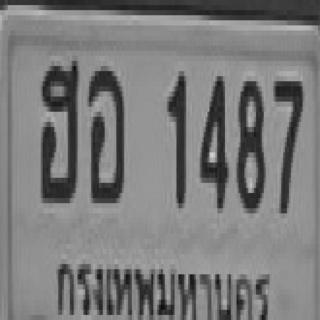A43: (87, 61, 122, 198)
A44: (39, 56, 78, 198)
N01: (166, 66, 183, 203)
N04: (198, 71, 227, 208)
N07: (272, 76, 300, 208)
N08: (235, 76, 264, 208)
P04: (54, 252, 273, 320)
